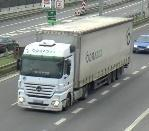car: (133, 34, 149, 54)
truck: (14, 17, 134, 112)
